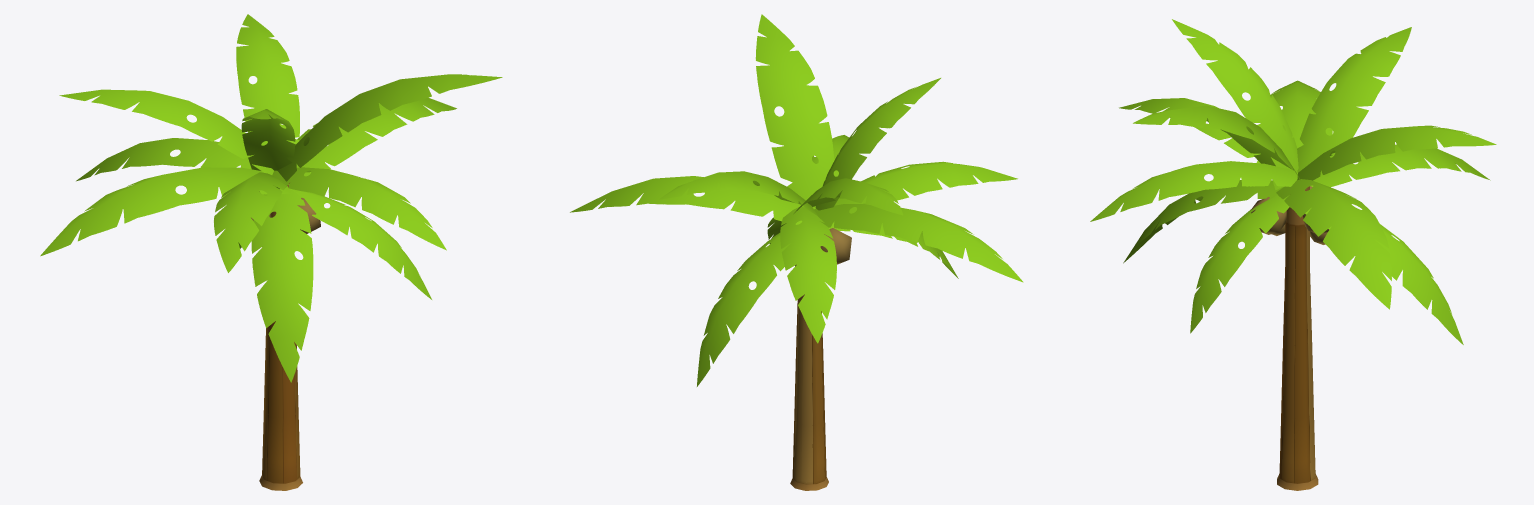
The model's file is tree_1_3.FBX.
3 views of the same model, side by side, from view 1: azimuth 30°, elevation 25°; view 2: azimuth 150°, elevation 25°; view 3: azimuth 270°, elevation 25° (orthographic). The views are drawn at different scales.
Visible parts, largest first — view 1: Plane125, Plane127, Plane129, Plane126, Cylinder229, Plane135, Plane131, Plane136, Plane130, Plane134, Plane128, Plane132; view 2: Plane129, Cylinder229, Plane130, Plane127, Plane133, Plane128, Plane136, Plane132, Plane126, Plane131, Plane125, GeoSphere056; view 3: Cylinder229, Plane128, Plane131, Plane132, Plane135, Plane126, Plane134, Plane129, Plane130, Plane133, Plane125, Plane127 (+1 smaller).
Boxes of the visible parts, x1,y1,x2,y2 form: Plane125: (251,188,313,382); Plane127: (40,167,291,256); Plane129: (276,74,502,188); Plane126: (236,14,299,145); Cylinder229: (259,183,302,490); Plane135: (272,167,446,250); Plane131: (59,89,273,174); Plane136: (214,172,286,272); Plane130: (76,138,251,181); Plane134: (291,189,431,299); Plane128: (288,97,456,191); Plane132: (241,109,295,170); Plane129: (755,14,834,209); Cylinder229: (790,294,828,490); Plane130: (780,206,836,343); Plane127: (814,203,1023,282); Plane133: (697,233,790,386); Plane128: (570,176,803,224); Plane136: (833,161,1017,222); Plane132: (815,78,940,210); Plane126: (659,171,817,215); Plane131: (794,178,903,215); Plane125: (829,222,958,278); GeoSphere056: (820,228,851,264); Cylinder229: (1277,186,1318,490); Plane128: (1276,179,1391,309); Plane131: (1297,27,1411,176); Plane132: (1172,19,1298,170); Plane135: (1090,161,1297,221); Plane126: (1297,125,1496,180); Plane134: (1190,194,1289,333); Plane129: (1133,105,1306,189); Plane130: (1313,144,1490,187); Plane133: (1305,208,1463,344); Plane125: (1123,180,1289,263); Plane127: (1270,80,1332,189).
Size of the model in its own units: 15.73 by 13.48 by 12.79.
Materials: 3 (1 with a texture image).
